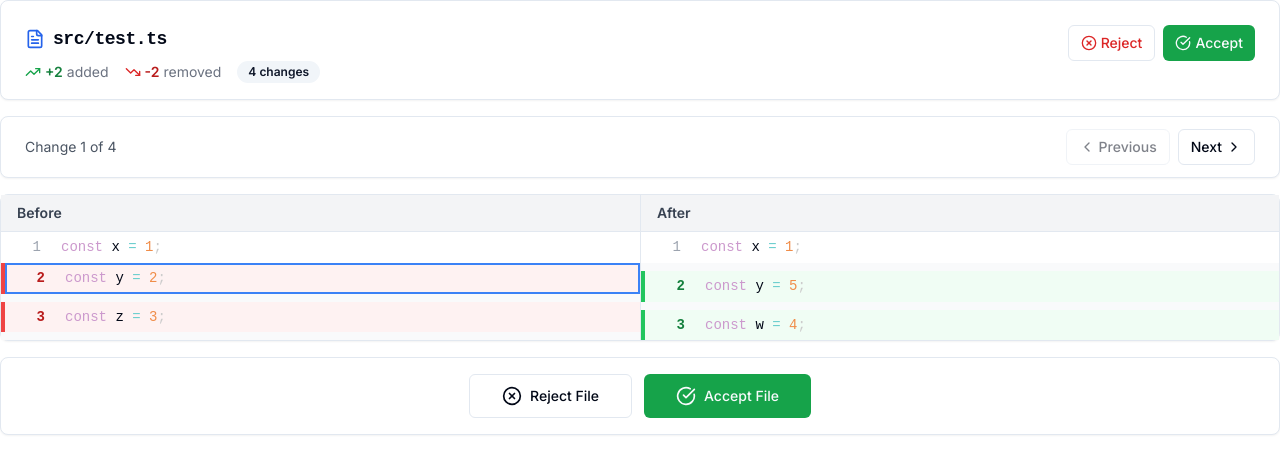
Test case: DiffViewer › disables Next button at last change
// Navigate to last change
Click the button "Next". click: (1216,147)
box: [1178, 129, 1255, 165]
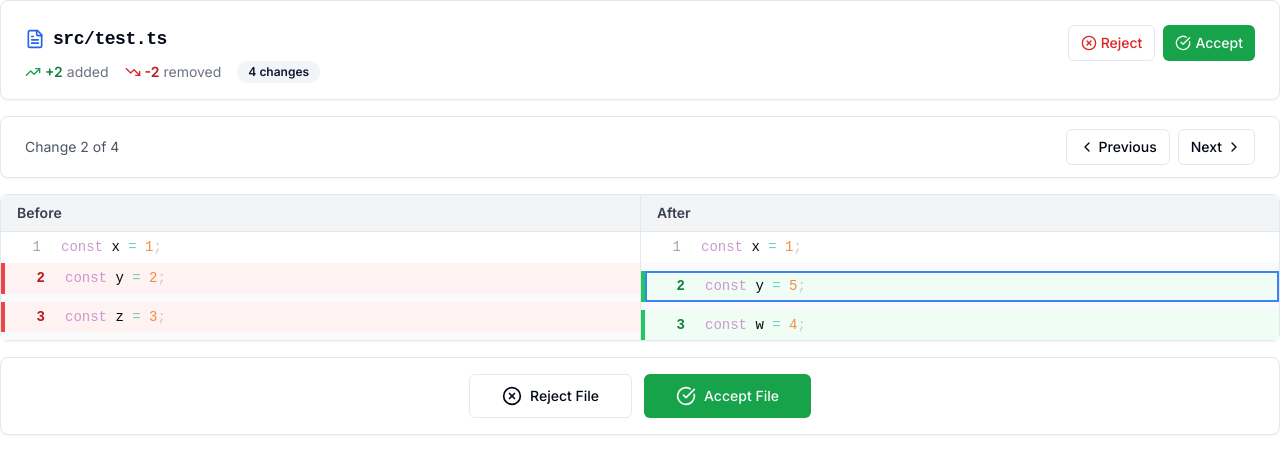
Click the button "Next". click: (1216,147)
box: [1178, 129, 1255, 165]
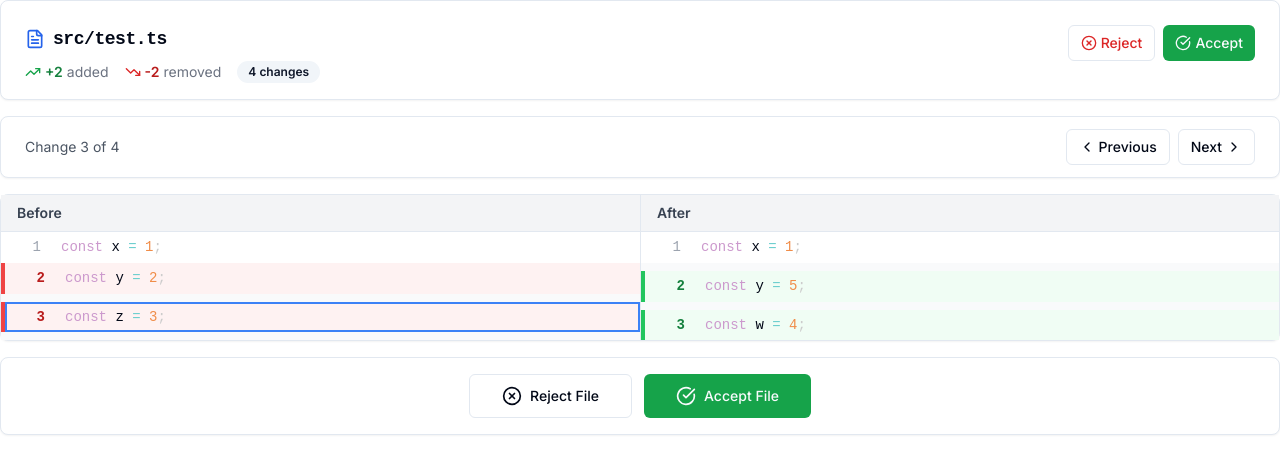
Click the button "Next". click: (1216,147)
box: [1178, 129, 1255, 165]
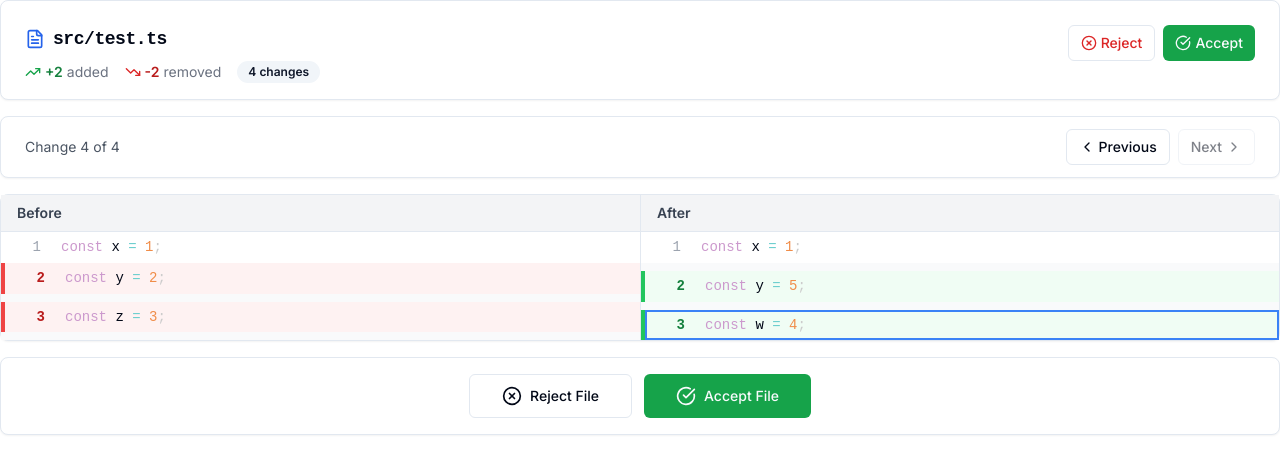
Expected: the button "Next" is disabled, [1178, 129, 1255, 165]
